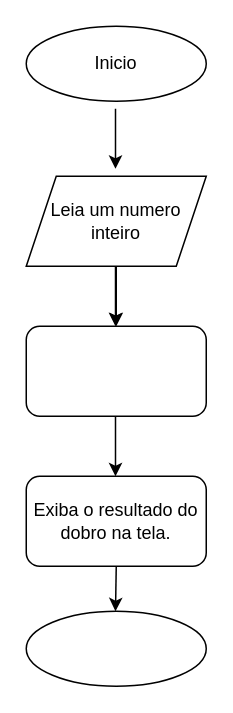
The diagram is 233 pixels wide and 713 high, and some of its shapes have lost their labels. Here are the shapes that lost their labels. From the top down, the centre of each, then its label:
At point (115, 370): "Pegue o numero dado, multiplique por 2".
At point (115, 648): "Fim".
